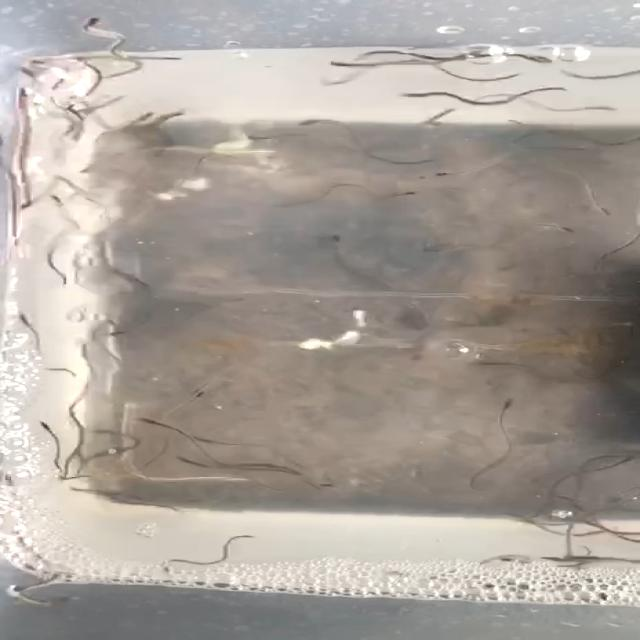inactive_glass_eel: (565, 100, 621, 116), (176, 451, 218, 471), (2, 86, 36, 110), (24, 592, 80, 606), (291, 116, 346, 130), (182, 434, 232, 448), (16, 190, 47, 212), (506, 50, 551, 65), (74, 11, 105, 32), (108, 322, 144, 340), (30, 419, 66, 436), (41, 193, 76, 210), (128, 412, 167, 427), (497, 390, 521, 414), (18, 310, 46, 330), (68, 337, 94, 358), (589, 200, 619, 218), (400, 86, 438, 100), (331, 60, 375, 72), (24, 55, 60, 69), (327, 230, 352, 250), (459, 358, 507, 368), (15, 70, 48, 84), (540, 551, 572, 563), (182, 383, 207, 398), (538, 224, 575, 234), (421, 168, 449, 180), (391, 190, 420, 200), (93, 428, 121, 438)
